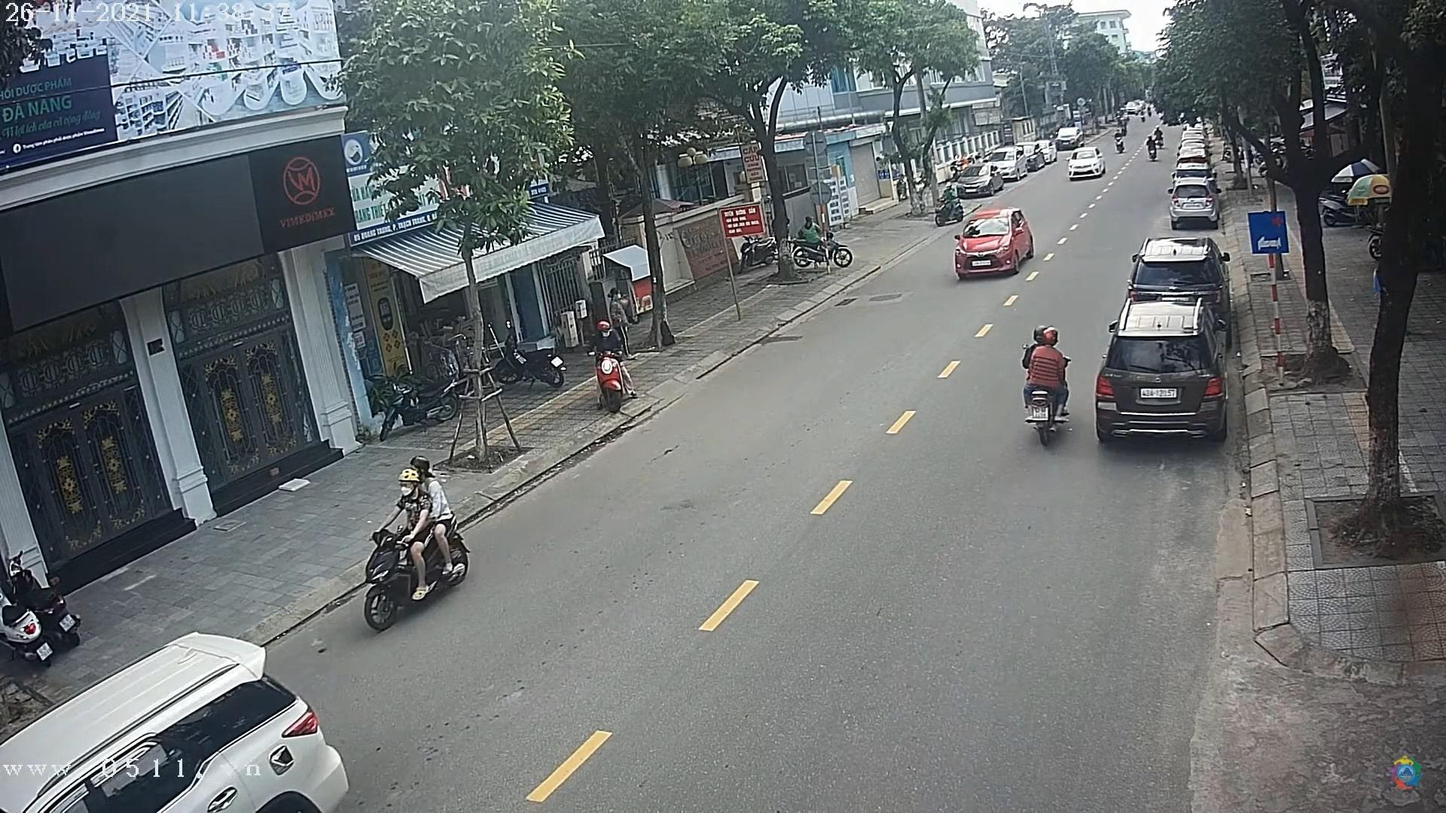car: (951, 208, 1034, 279), (1065, 148, 1105, 181)
motorbike: (355, 524, 471, 630)
